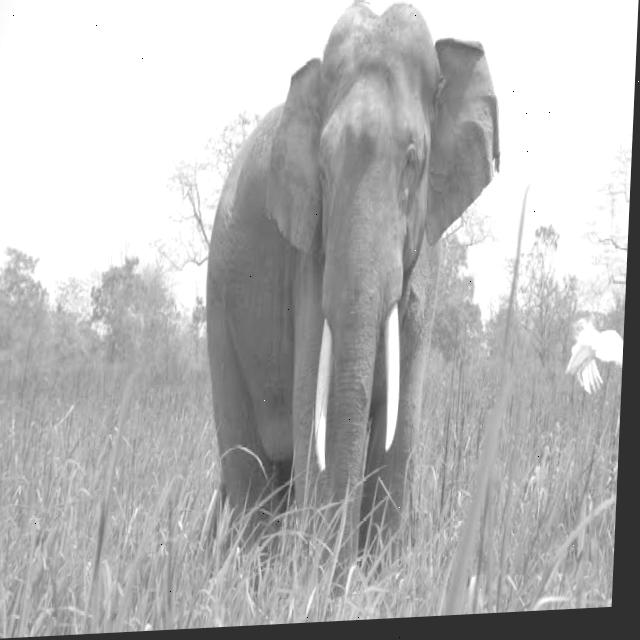Buffalo: (191, 0, 509, 601)
